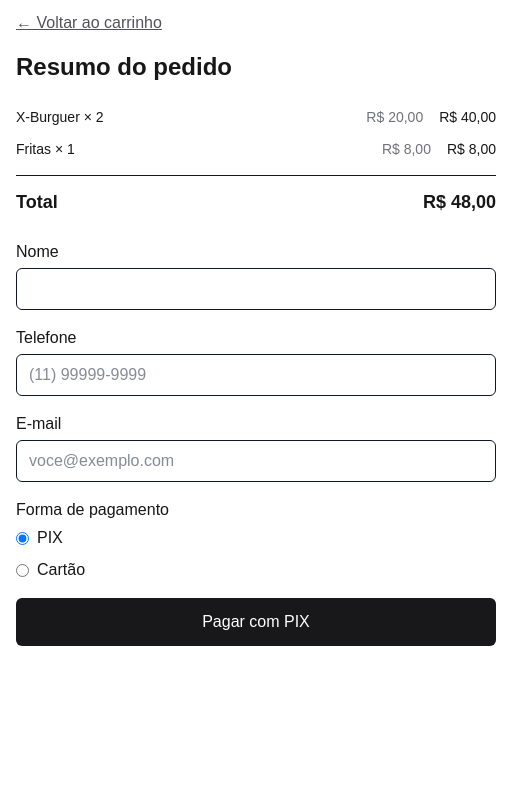
Scenario: CheckoutPage › CARD submit: rejects if CPF is invalid
Type "Maria Silva" into the field labelled "Nome" at coordinates (256, 289), box [16,268,496,310]
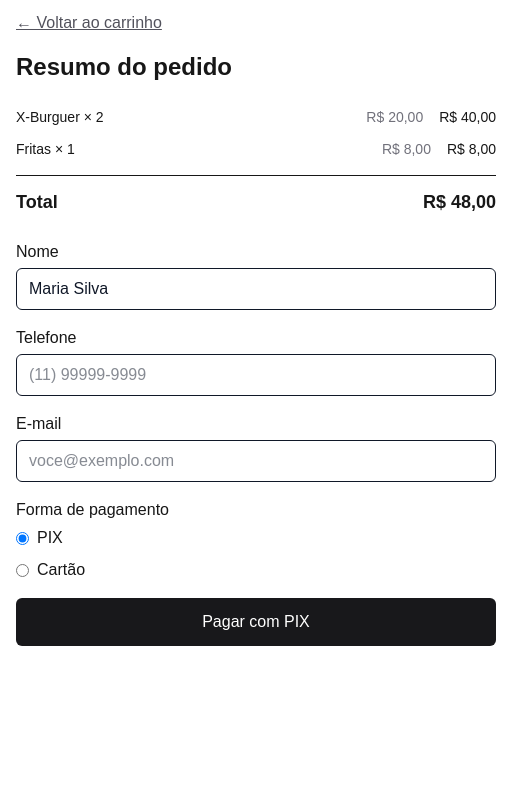
Type "11987654321" into the field labelled "Telefone" at coordinates (256, 375), box [16,354,496,396]
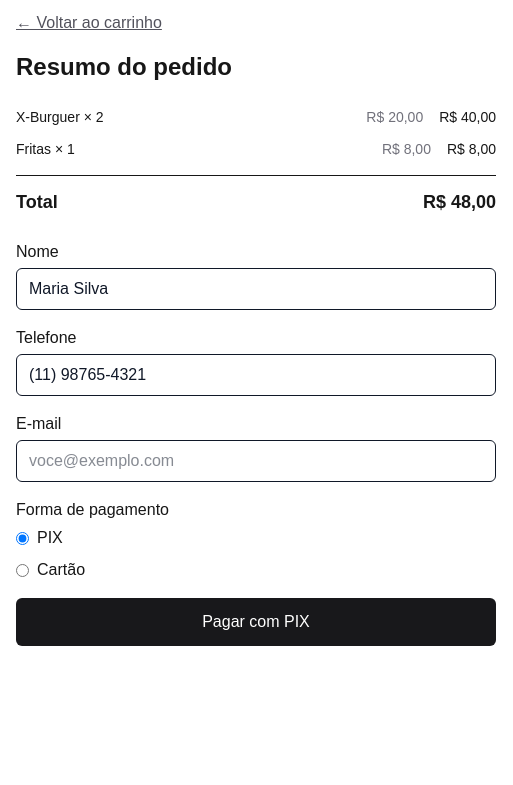
Type "maria@example.com" into the field labelled "E-mail" at coordinates (256, 461), box [16,440,496,482]
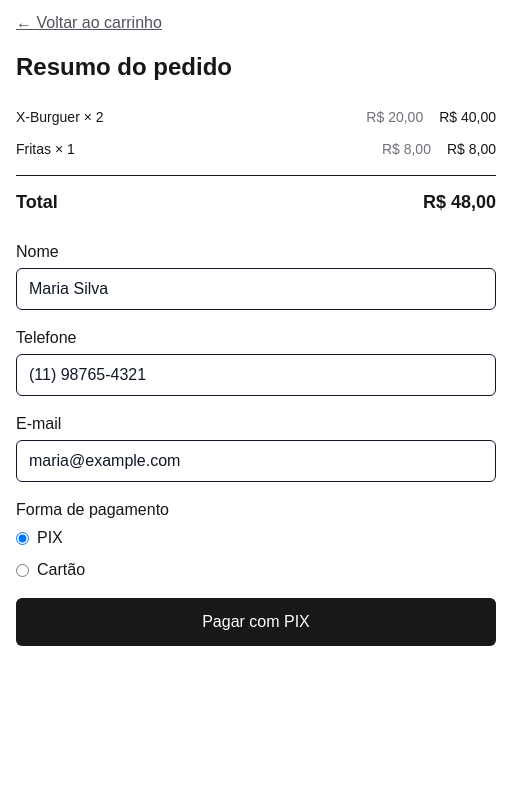
Click the radio button labelled "Cartão" at coordinates (22, 570), box [16,564,29,576]
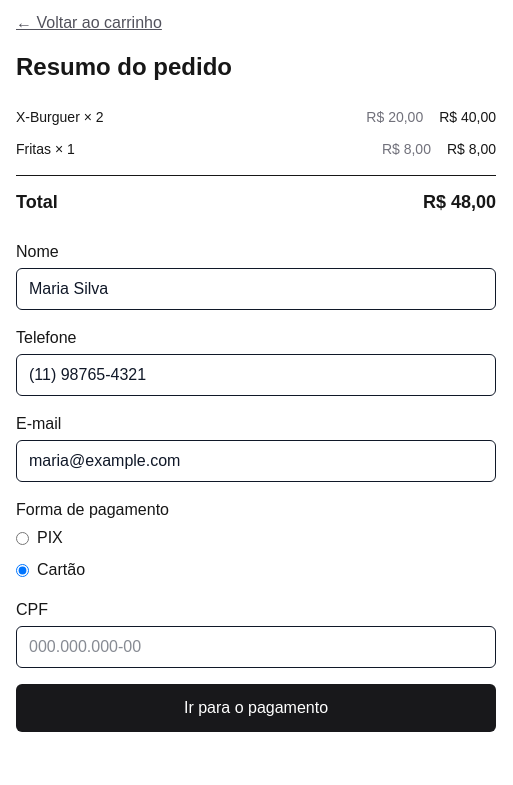
Type "123" into the field labelled "CPF" at coordinates (256, 647), box [16,626,496,668]
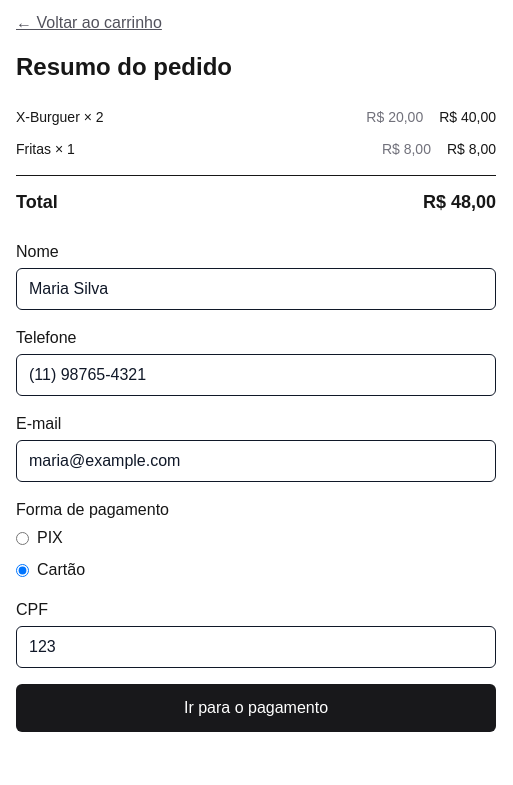
Submit the form "Ir para o pagamento", box [16,240,496,732]
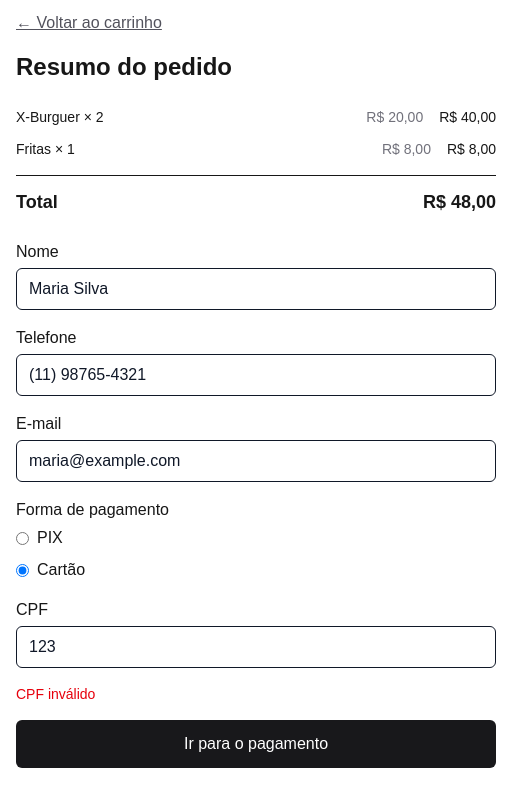
Check: the text "CPF inválido" is shown, box [16,686,95,702]
